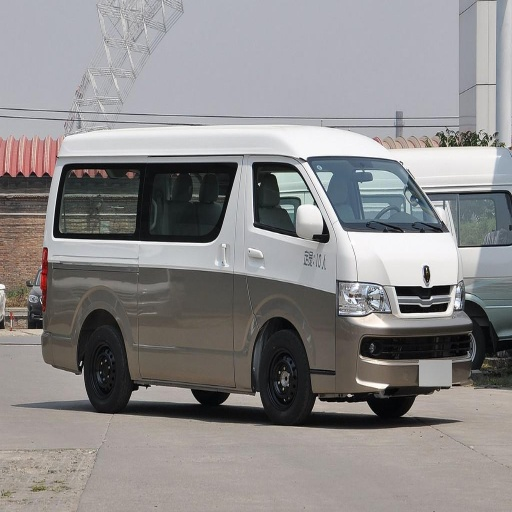back_right_door: (227, 158, 252, 235)
front_bumper: (319, 284, 474, 396)
front_glass: (313, 157, 445, 229)
front_right_door: (243, 159, 333, 277)
front_right_light: (339, 282, 390, 316)
trunk: (45, 244, 334, 373)
